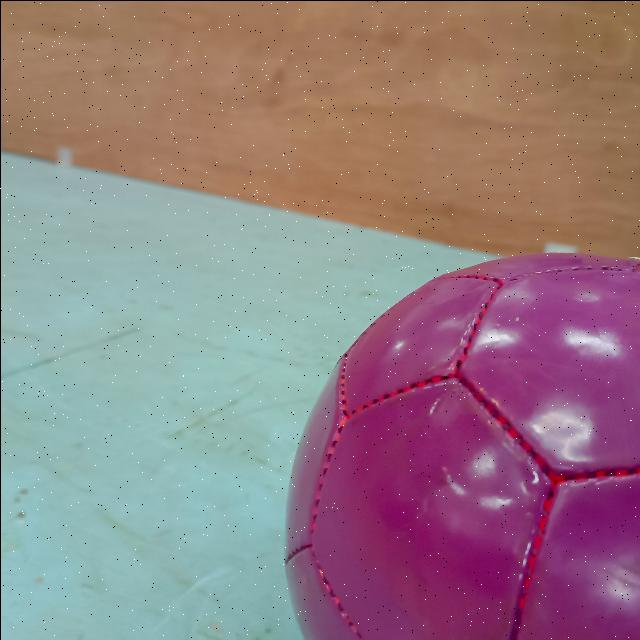P: (276, 248, 640, 640)
